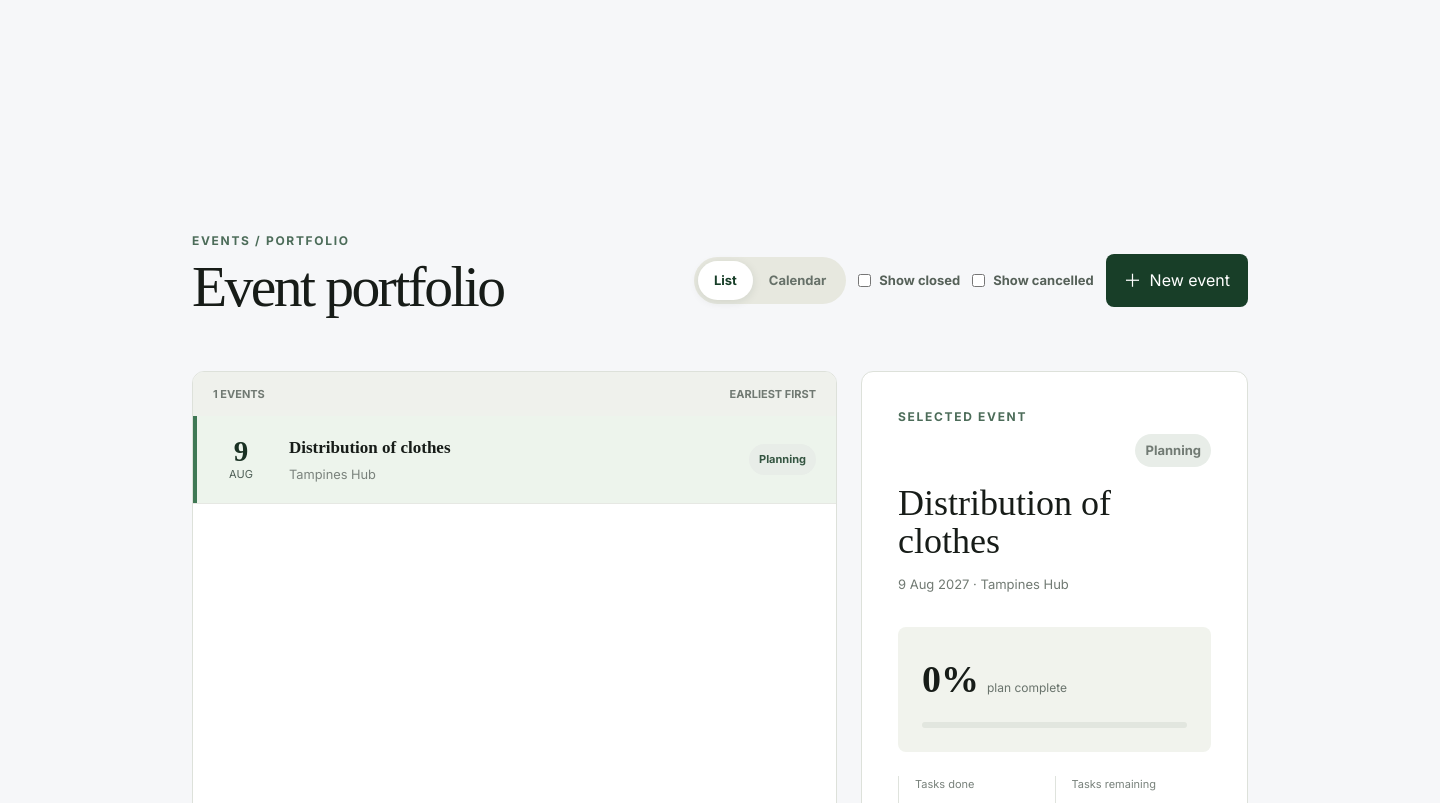
Test: Event Operations MVP primary organizer journey › keeps the creation steps above the mobile menu and lets Back leave step 1
The width and height of the screenshot is (1440, 803).
Step 1. Click the button "＋ New event" → x=1177, y=280, box [1106,254,1248,307]
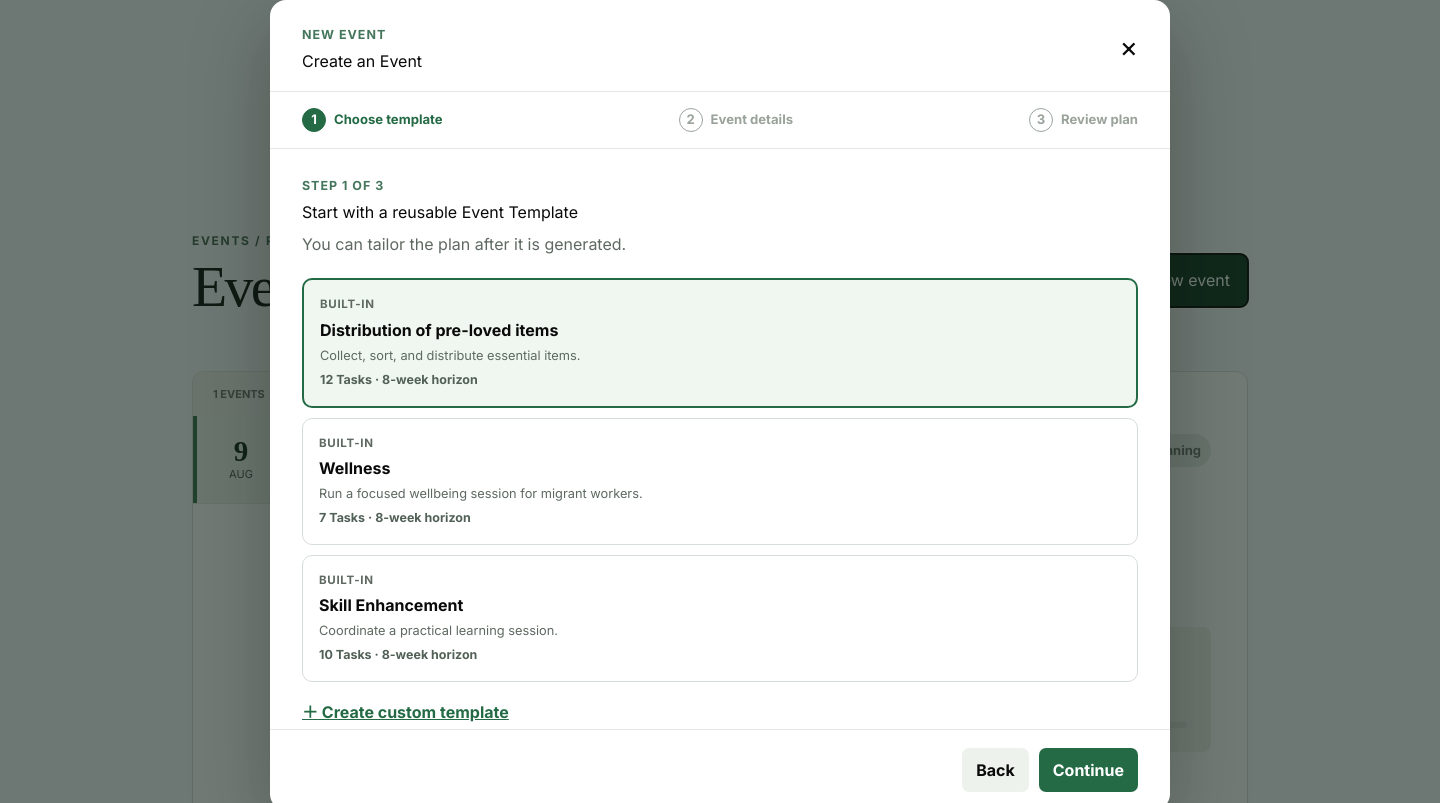
Result: the button "Back" is enabled
Result: the list item "Choose template" is shown at [334,111,443,127]
Step 2. Click the button "Back" → x=996, y=770, box [962,748,1029,792]
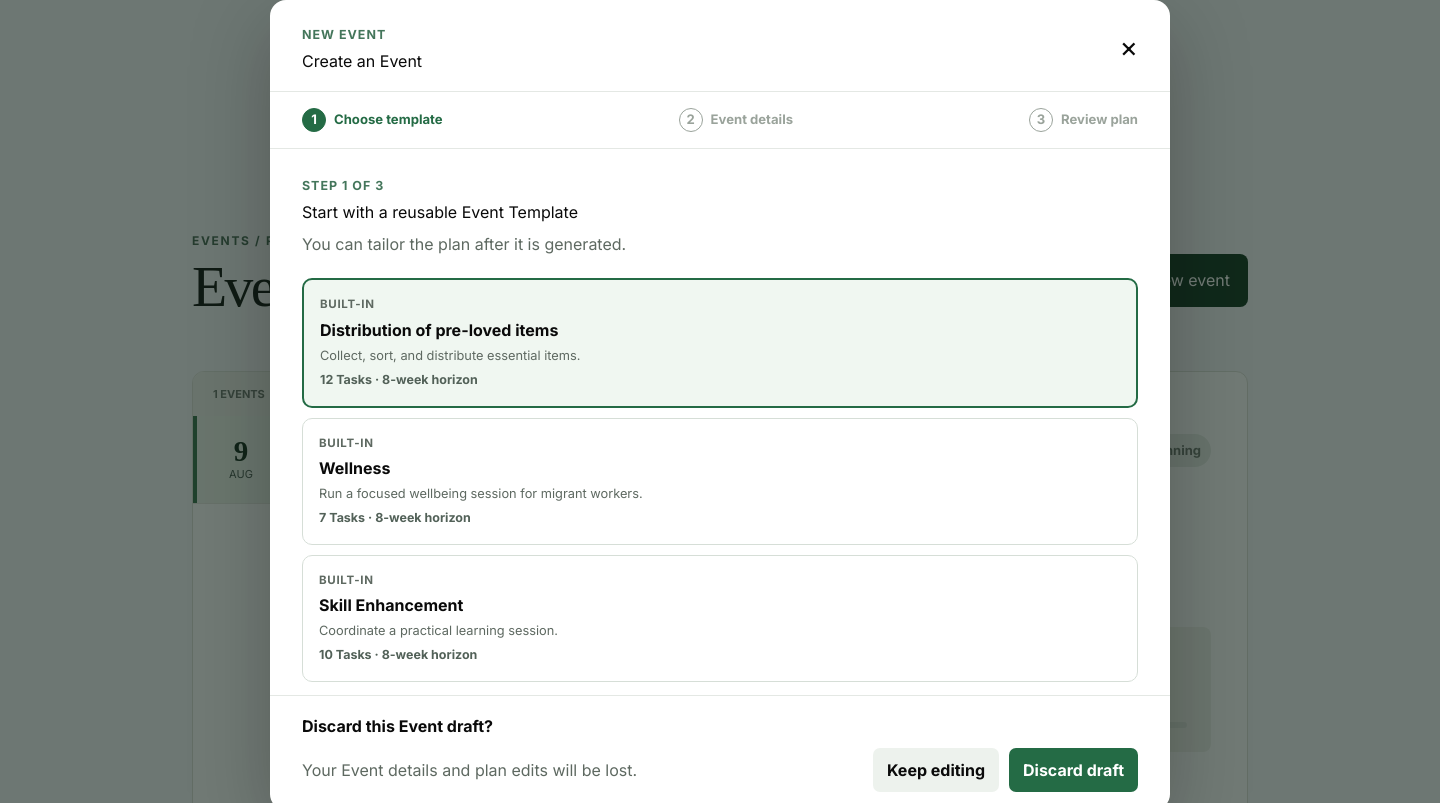
Result: the text "Discard this Event draft?" is shown at [302,716,493,736]
